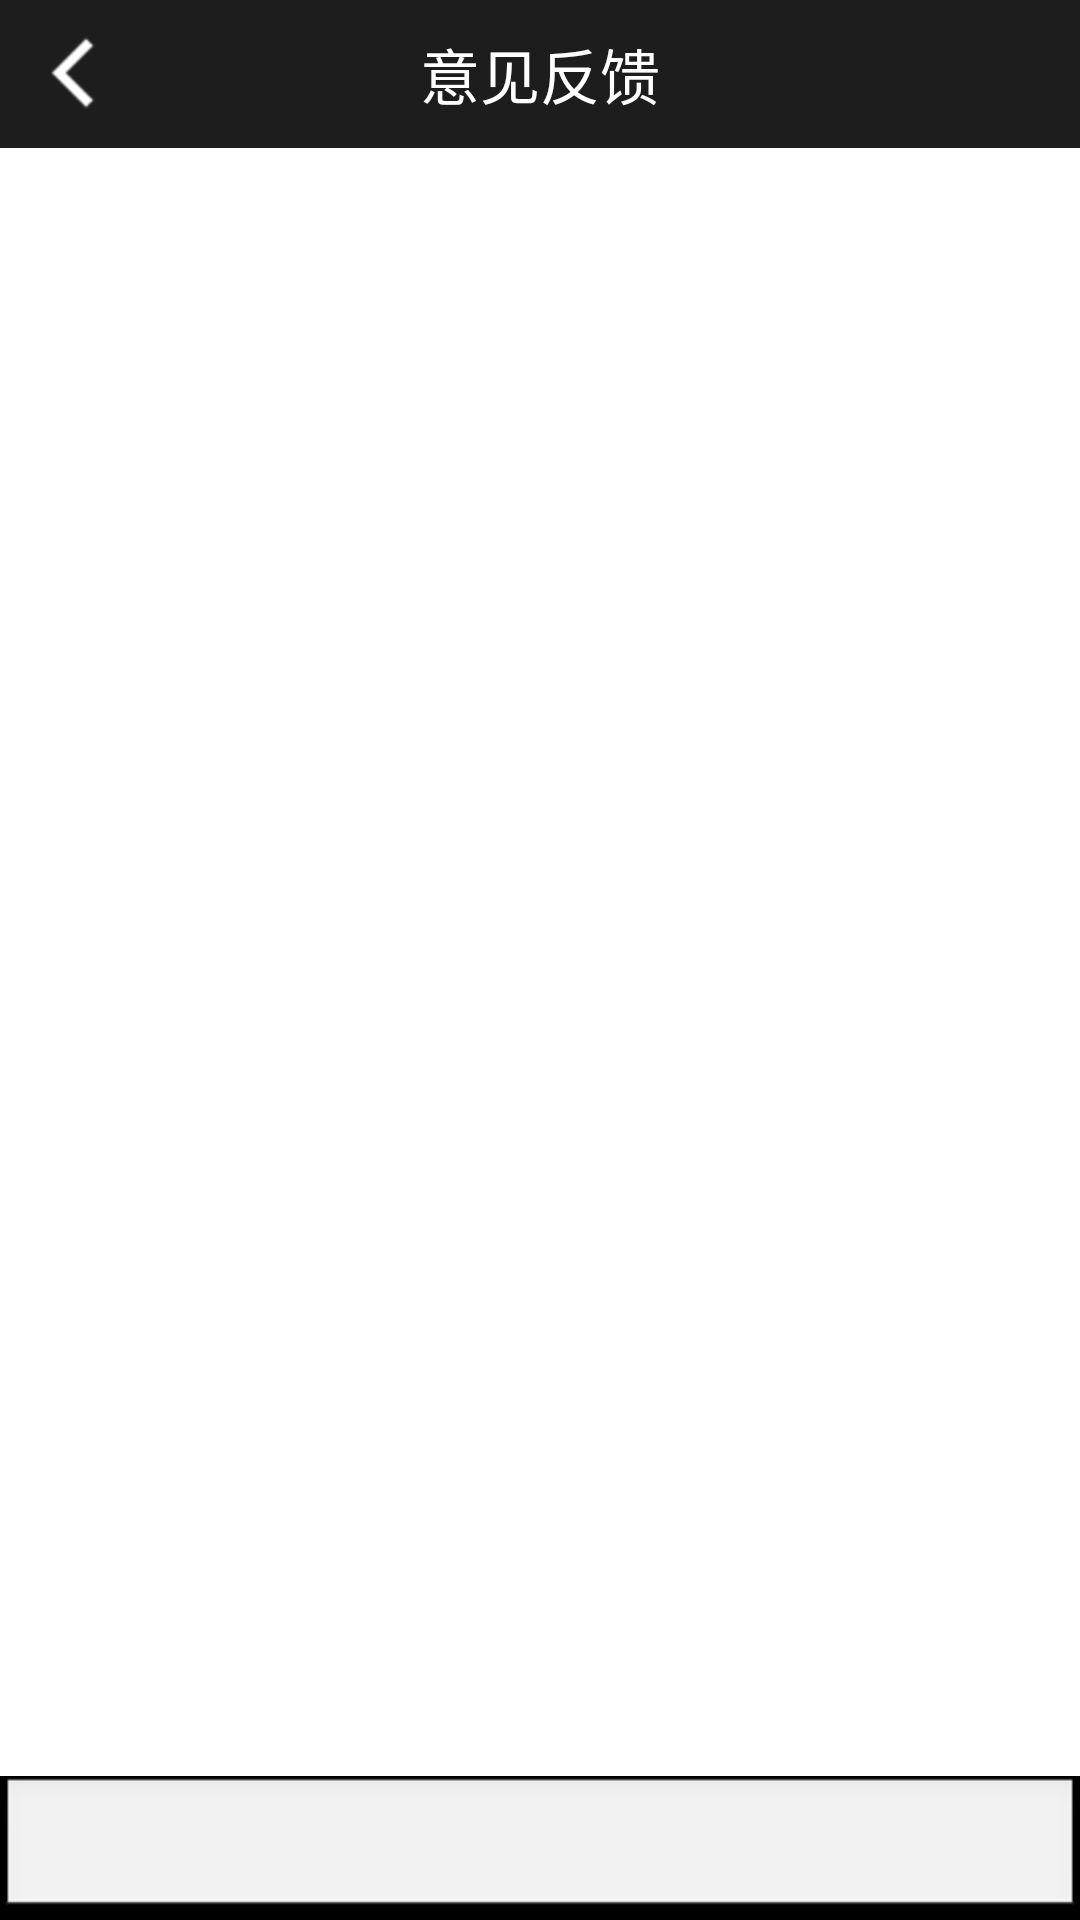

Icons on this 1080x1920 Android screen, each with the point to tap as [x,y]:
back: [72,73]
